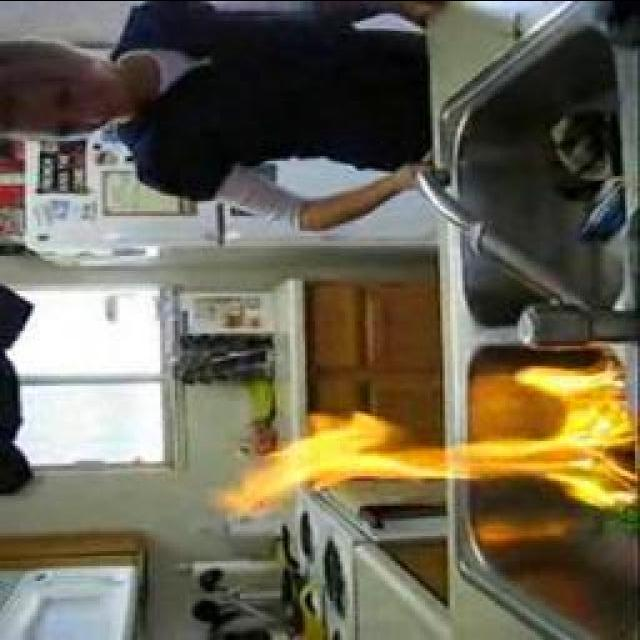Fire: (222, 363, 630, 518)
